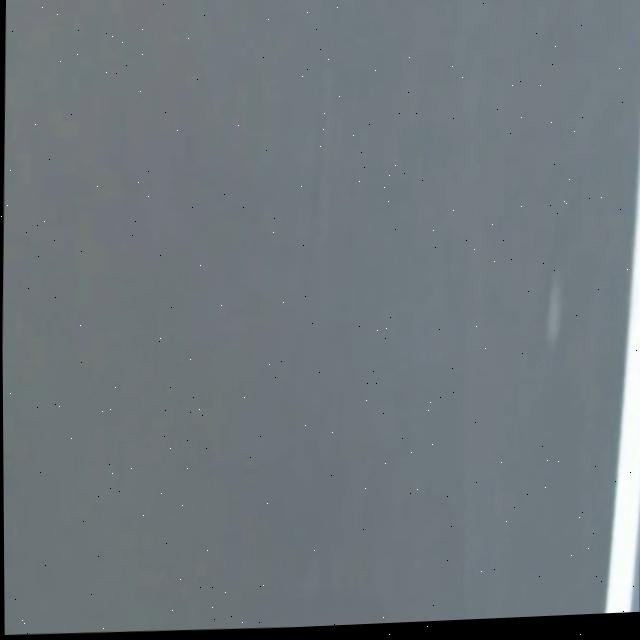left: (605, 135, 640, 613)
